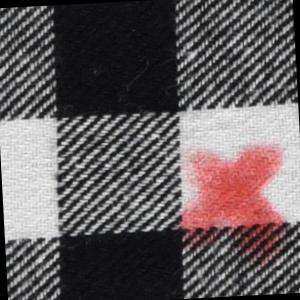Stain: (170, 140, 295, 273)
